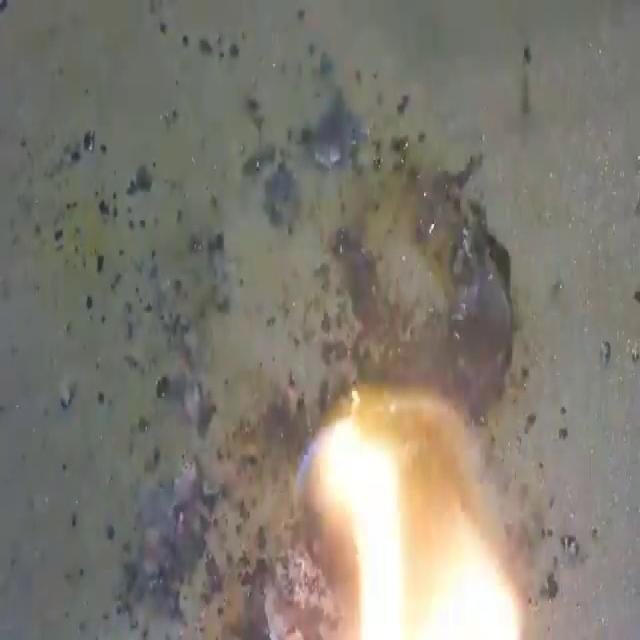Fire: (256, 348, 531, 640)
